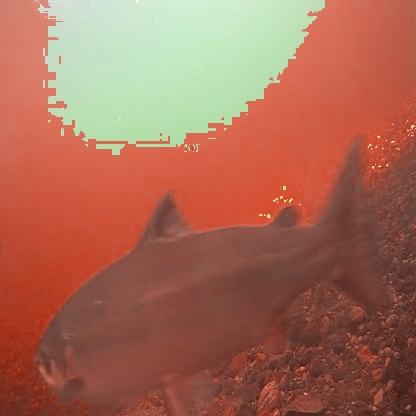salmon: (31, 126, 395, 415)
